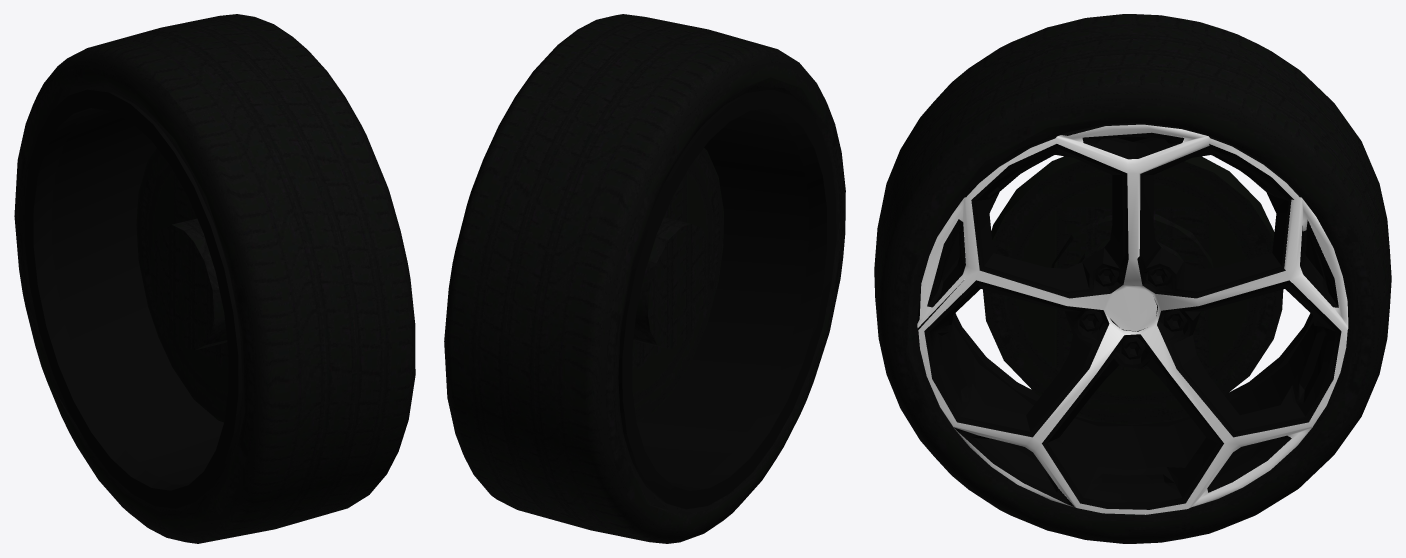
The model's file is huracan-rims-tires-rf.glb.
3 renders of one model, left to right at view 1: azimuth 30°, elevation 25°; view 2: azimuth 150°, elevation 25°; view 3: azimuth 270°, elevation 25°, orthographic.
Parts seen in each view (by area): view 1: Object_259.001, Object_183; view 2: Object_259.001, Object_183; view 3: Object_183, Object_259.001.
Boxes of the visible parts, left/top/right/bottom form: Object_259.001: left=14, top=14, right=415, bottom=543; Object_183: left=24, top=89, right=242, bottom=508; Object_259.001: left=444, top=14, right=845, bottom=543; Object_183: left=618, top=89, right=836, bottom=509; Object_183: left=917, top=123, right=1348, bottom=514; Object_259.001: left=874, top=14, right=1391, bottom=543.
Size of the model in its own units: 1.03 by 2.68 by 2.68.
3 materials, 1 textured.
